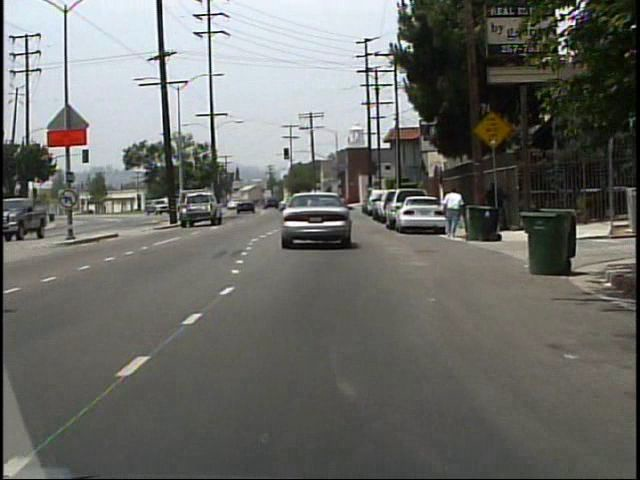person: (440, 186, 465, 240)
